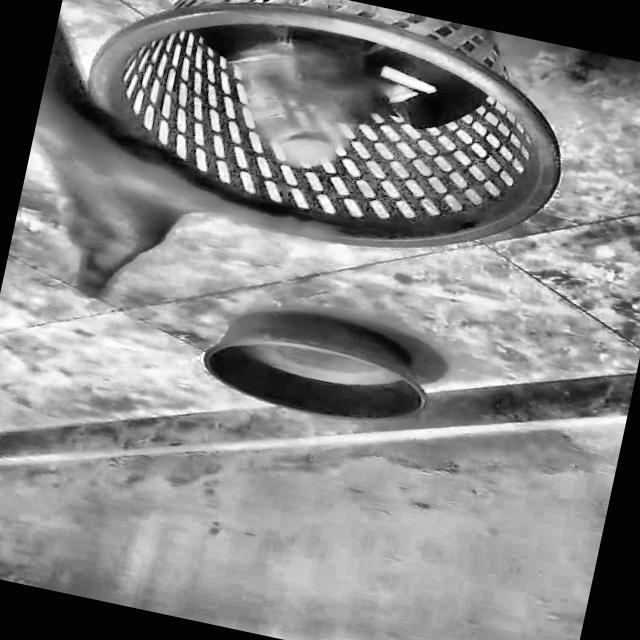Bottle-Disposed: (86, 0, 564, 267)
Plastic-Bottle: (210, 26, 376, 182)
